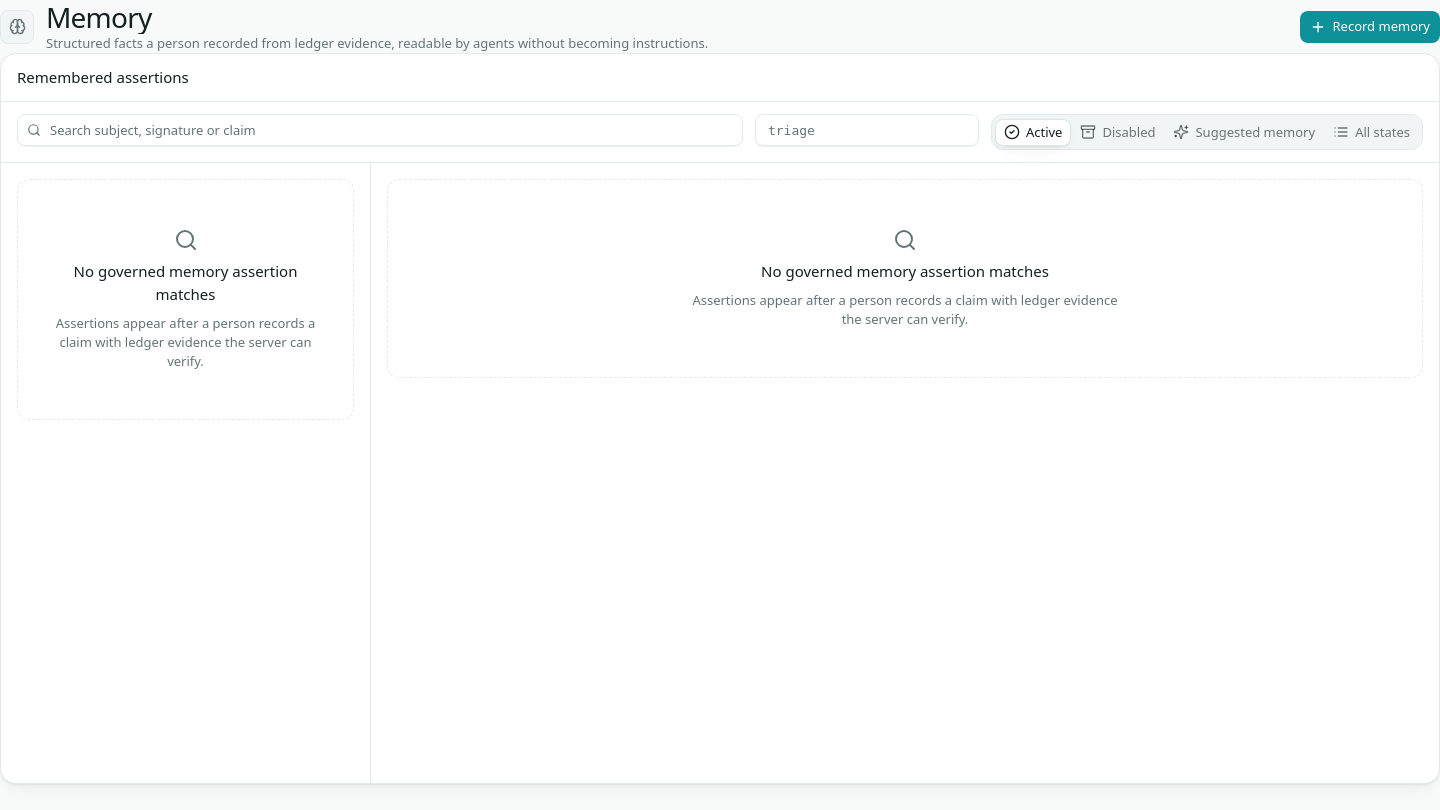
Test case: governed memory page › leaves creation when a pending suggestion is selected
Click the tab "Suggested memory". click: [1244, 132]
box: x1=1164 y1=118 x2=1324 y2=146
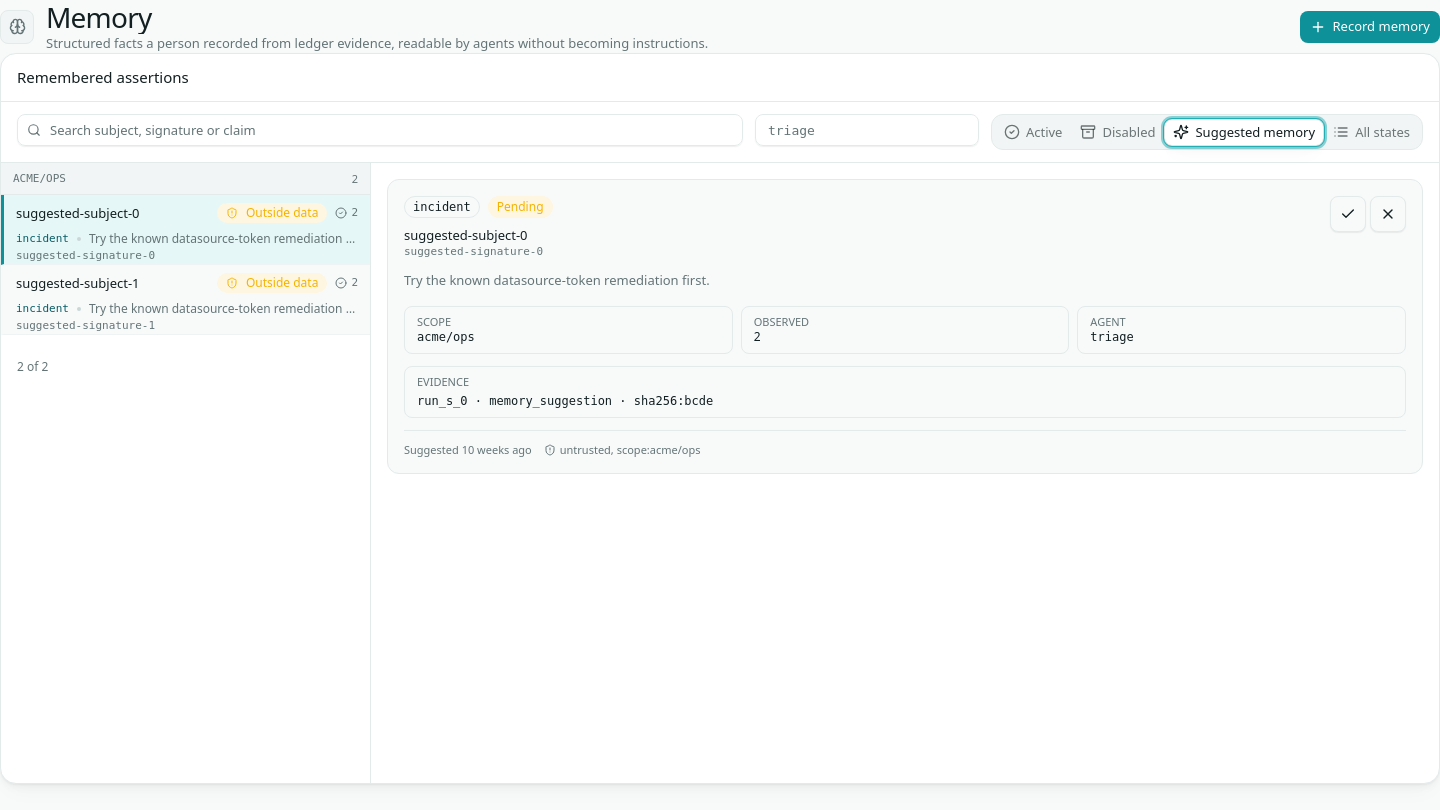
Click the button "Record memory". click: [1370, 26]
box: x1=1300 y1=10 x2=1439 y2=42
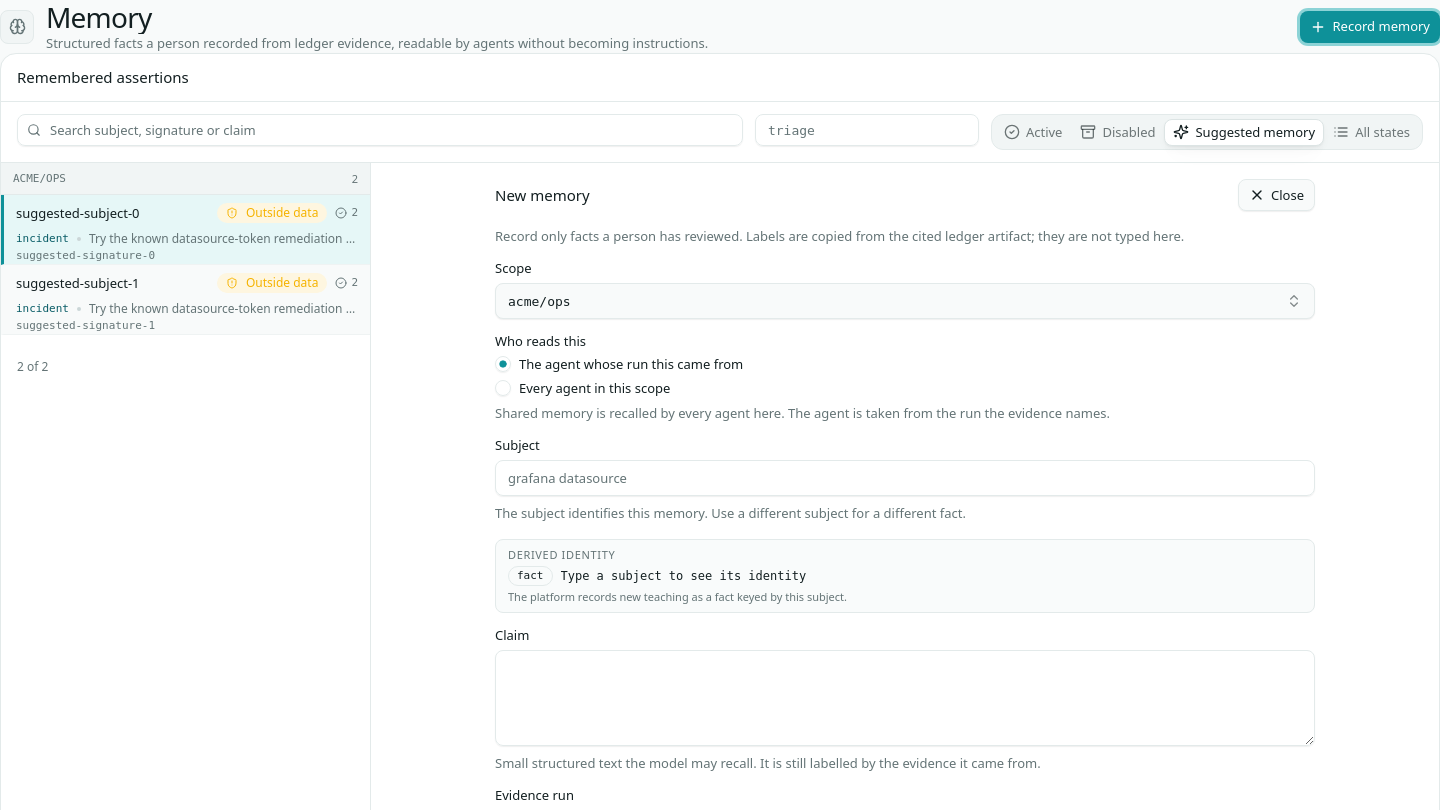
Click the button "suggested-subject-1". click: [186, 300]
box: x1=1 y1=265 x2=370 y2=335
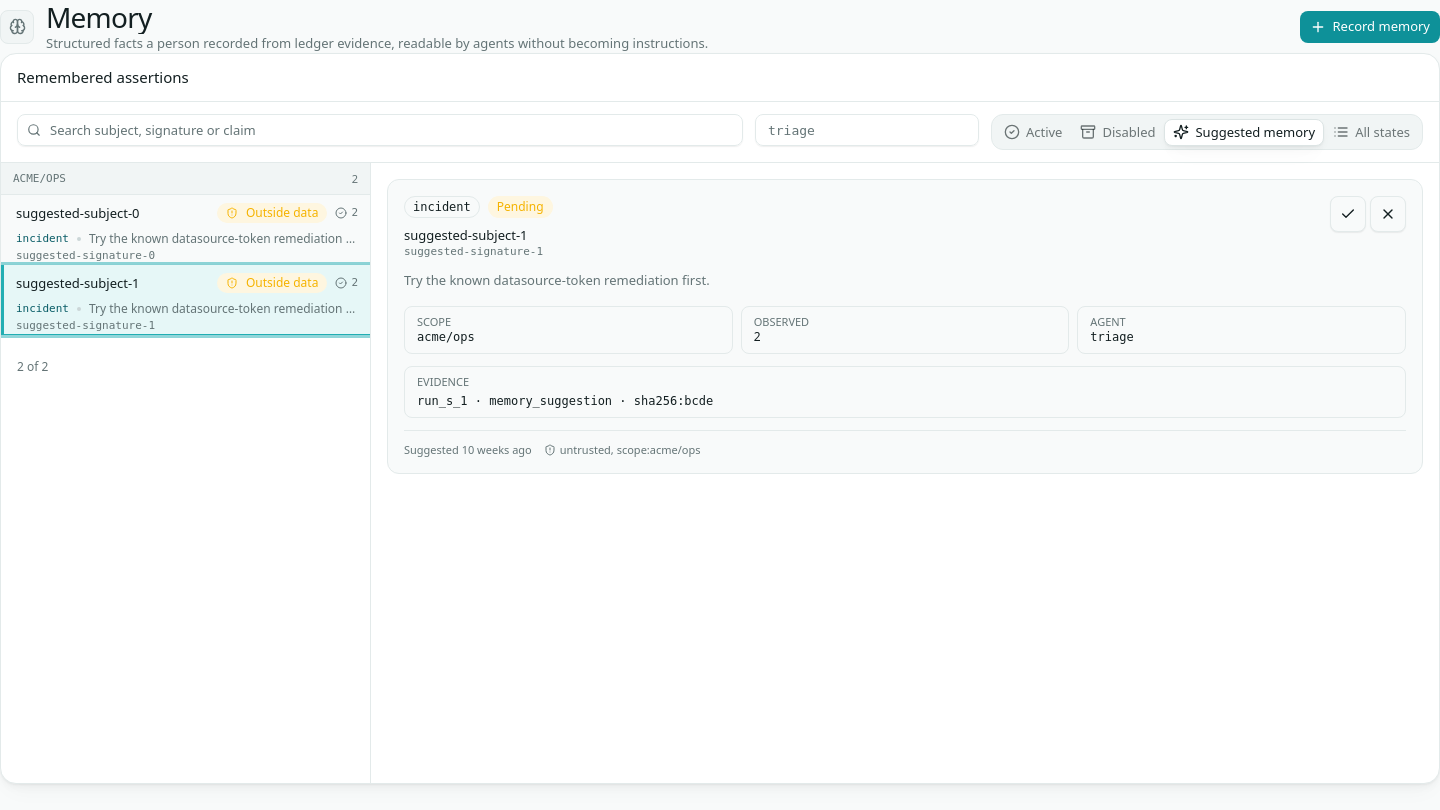
Now the heading "New memory" is gone
Now the text "run_s_1 · memory_suggestion · sha256:bcde" is shown, box x1=417 y1=394 x2=713 y2=408
